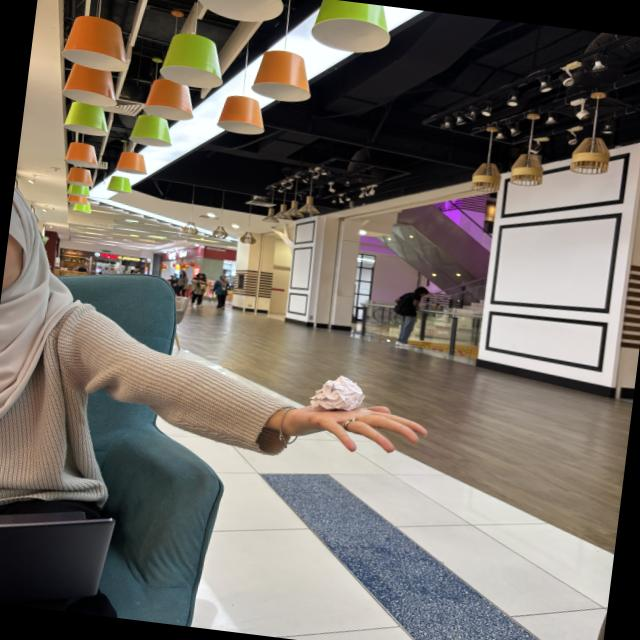crumpled_paper: (305, 369, 369, 417)
